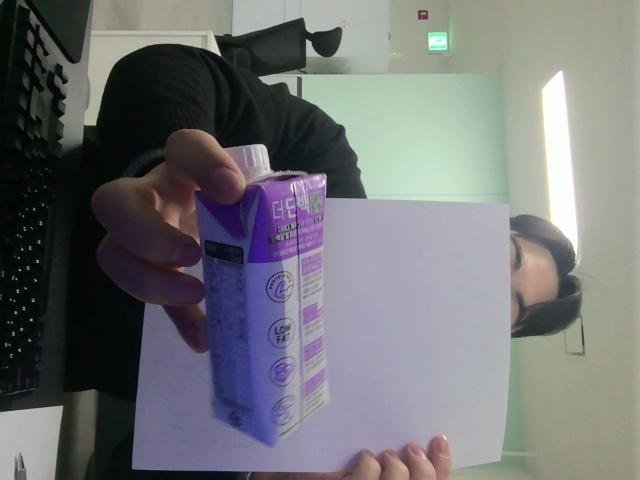milk: (196, 174, 329, 446)
